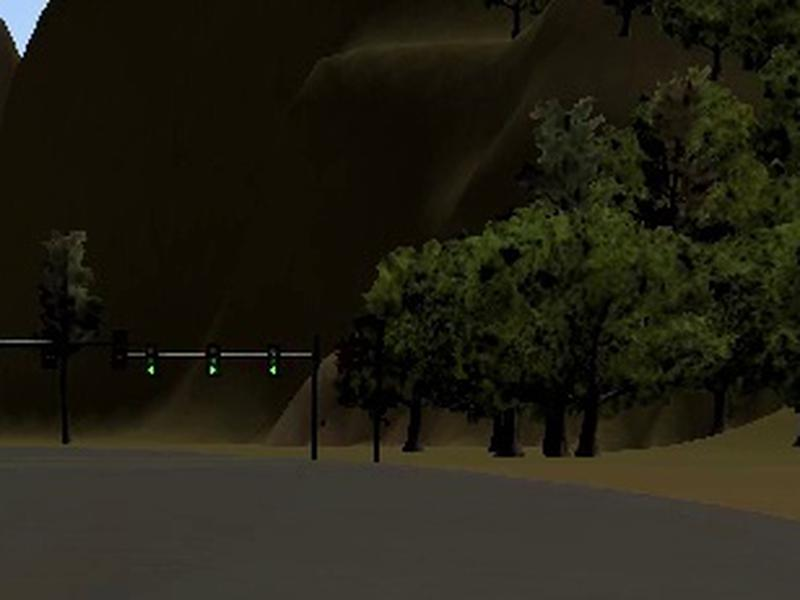Green: (206, 342, 220, 379), (267, 343, 278, 376), (145, 344, 156, 377)
